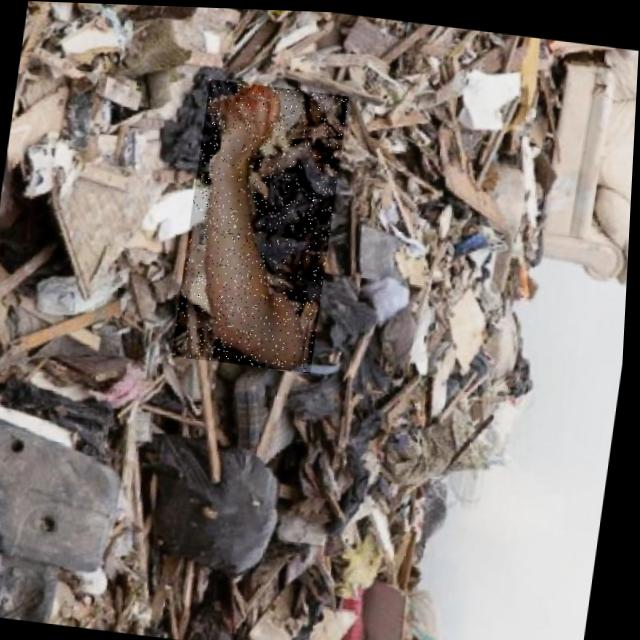Person in Rubble: (173, 76, 349, 371)
